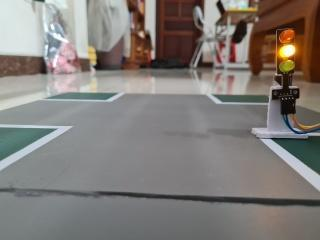yellow: (265, 20, 309, 82)
